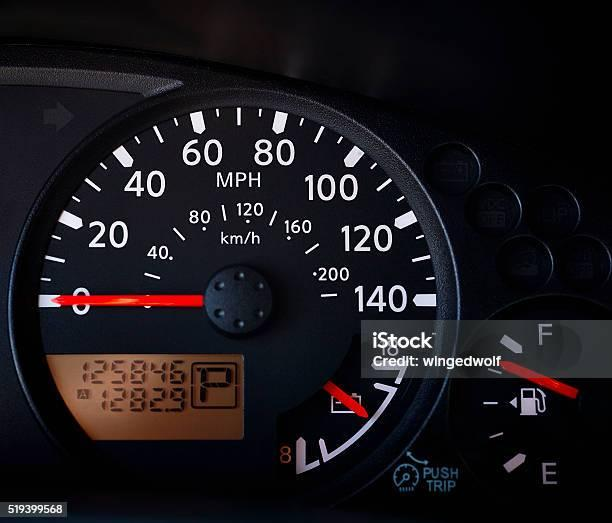-: (165, 408, 169, 413)
1: (81, 361, 88, 384), (101, 389, 107, 412)
2: (109, 387, 127, 413), (91, 359, 108, 385), (149, 387, 165, 413)
4: (150, 361, 166, 384)
5: (110, 359, 128, 384)
6: (169, 360, 186, 385)
8: (129, 359, 146, 384), (130, 387, 146, 412)
9: (169, 387, 186, 413)
X: (190, 361, 238, 409), (77, 388, 90, 400)
odometer: (46, 354, 245, 440)
